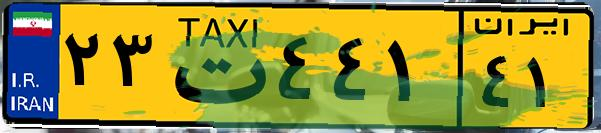1: (385, 28, 445, 110), (525, 38, 570, 115)
2: (57, 26, 110, 100)
3: (110, 28, 158, 98)
4: (270, 28, 330, 110), (330, 28, 385, 110), (475, 38, 525, 113)
ت: (158, 12, 270, 120)
